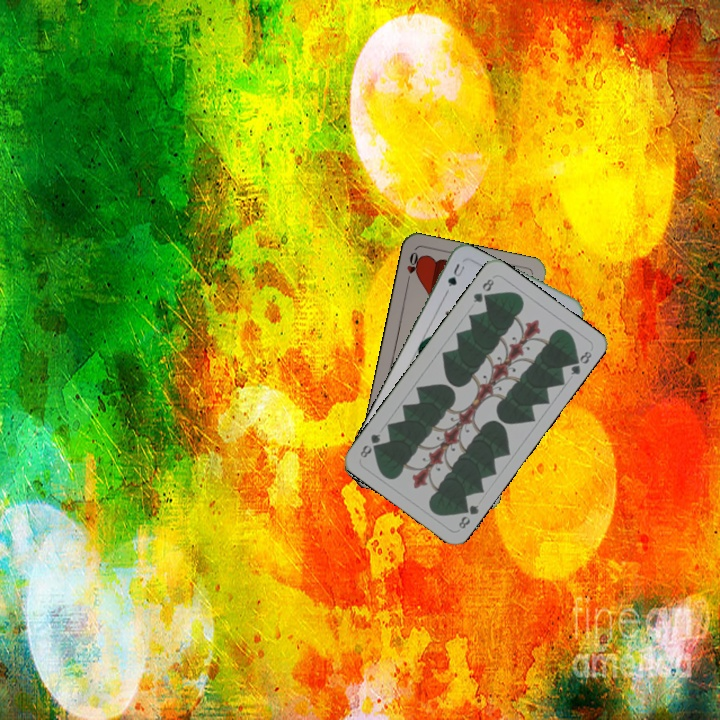G8: (469, 274, 497, 305), (454, 500, 481, 531)
GU: (443, 259, 467, 289)
HO: (403, 248, 423, 288)
